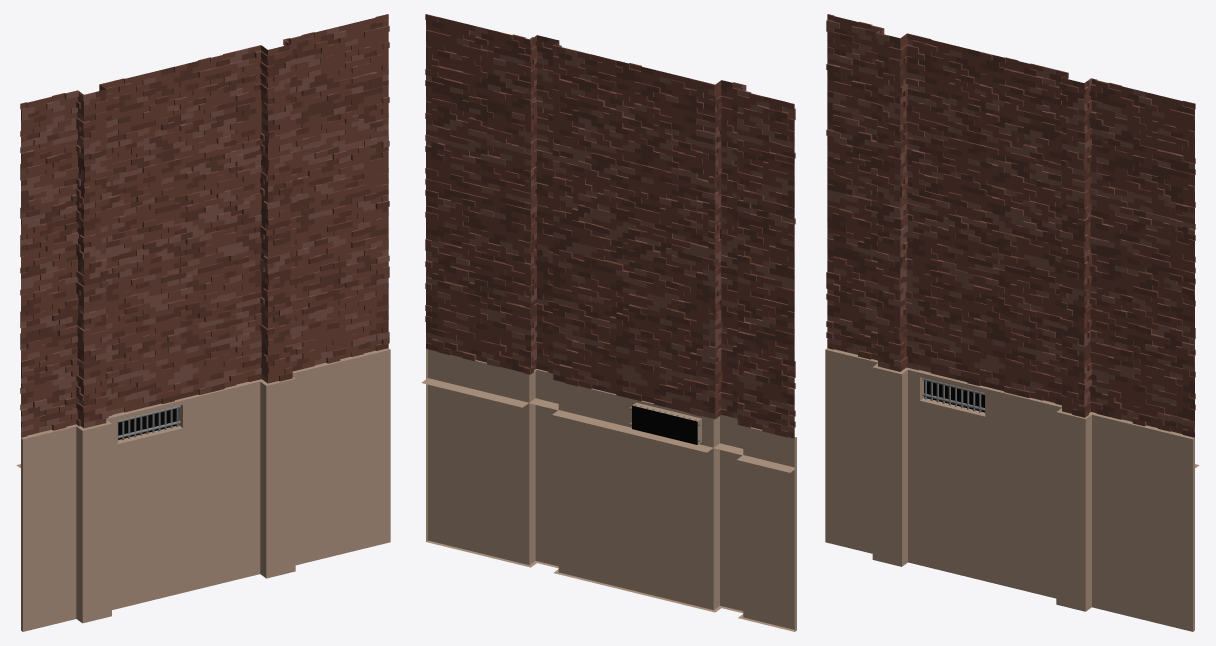
File: ModularWall__Vent.fbx
3 renders of one model, left to right at view 1: azimuth 30°, elevation 25°; view 2: azimuth 150°, elevation 25°; view 3: azimuth 330°, elevation 25°, orthographic.
Parts seen in each view (by area): view 1: ModularWall._Vent; view 2: ModularWall._Vent; view 3: ModularWall._Vent.
Part boxes in pixels (x1,y1,x2,y2): ModularWall._Vent: [16, 14, 390, 631]; ModularWall._Vent: [421, 14, 796, 631]; ModularWall._Vent: [825, 14, 1199, 631].
Size of the model in its own units: 951 by 1300 by 66.76.
